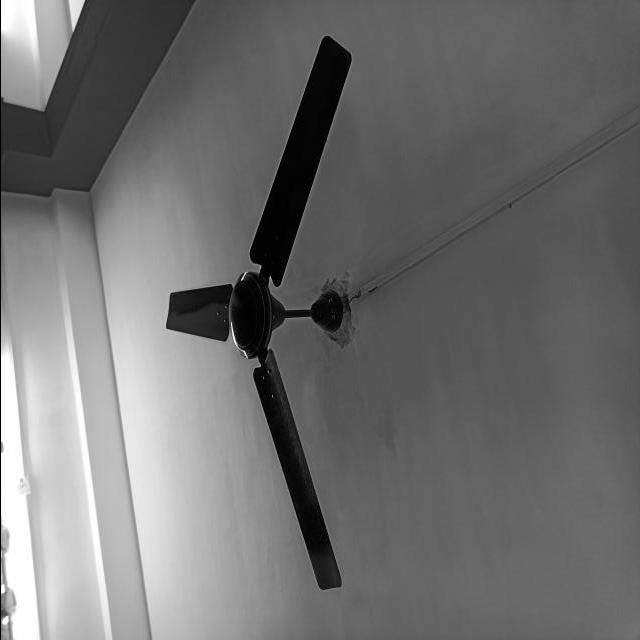fan: (166, 35, 355, 591)
